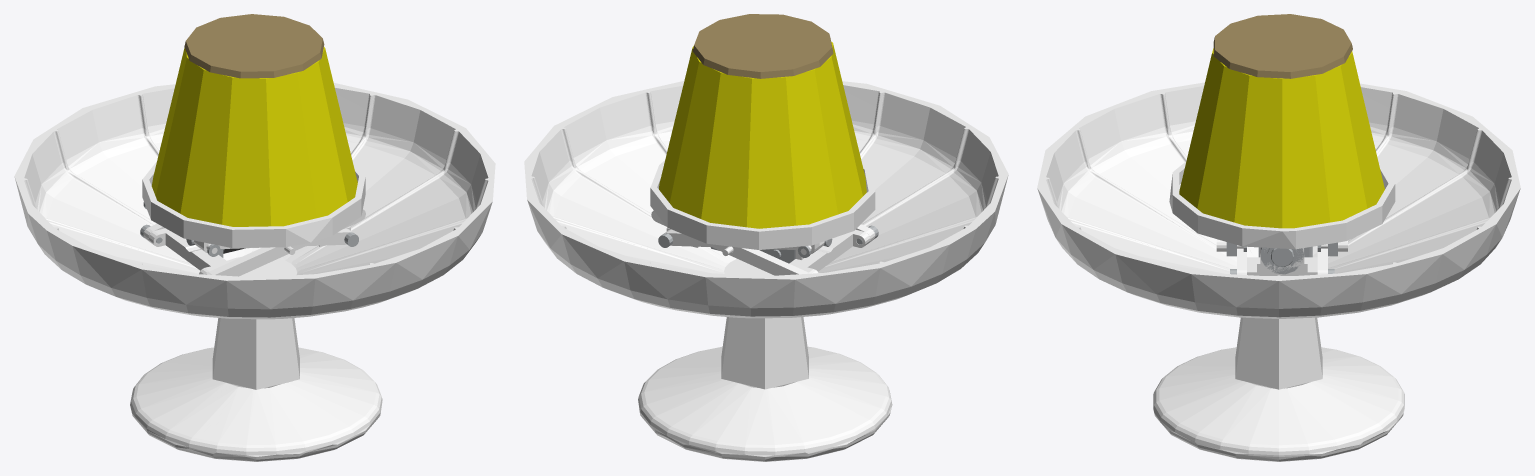
The model's file is purin.gltf.
The picture shows the model from 3 angles, left to right: view 1: azimuth 30°, elevation 25°; view 2: azimuth 150°, elevation 25°; view 3: azimuth 270°, elevation 25°; orthographic projection.
Parts seen in each view (by area): view 1: glass, Assy; view 2: glass, Assy; view 3: glass, Assy.
Part boxes in pixels (x1,y1,x2,y2): glass: (14, 83, 495, 461); Assy: (140, 14, 365, 276); glass: (524, 81, 1008, 461); Assy: (650, 14, 878, 275); glass: (1037, 82, 1520, 461); Assy: (1169, 14, 1395, 275).
Size of the model in its own units: 144 by 121 by 143.
